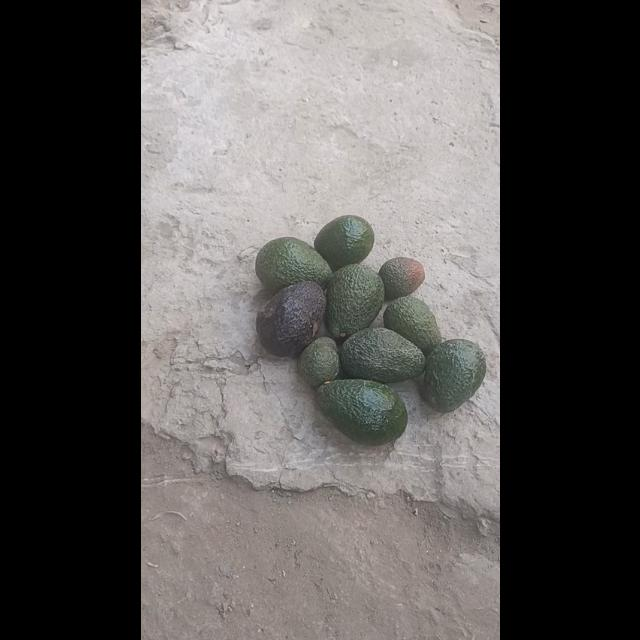Primera: (316, 377, 406, 443), (256, 281, 326, 355), (420, 338, 486, 412), (338, 328, 424, 384), (324, 264, 384, 340), (254, 236, 328, 292)
Segunda: (384, 296, 441, 356), (314, 214, 374, 268)
Tercera: (296, 337, 340, 389), (377, 256, 427, 300)
